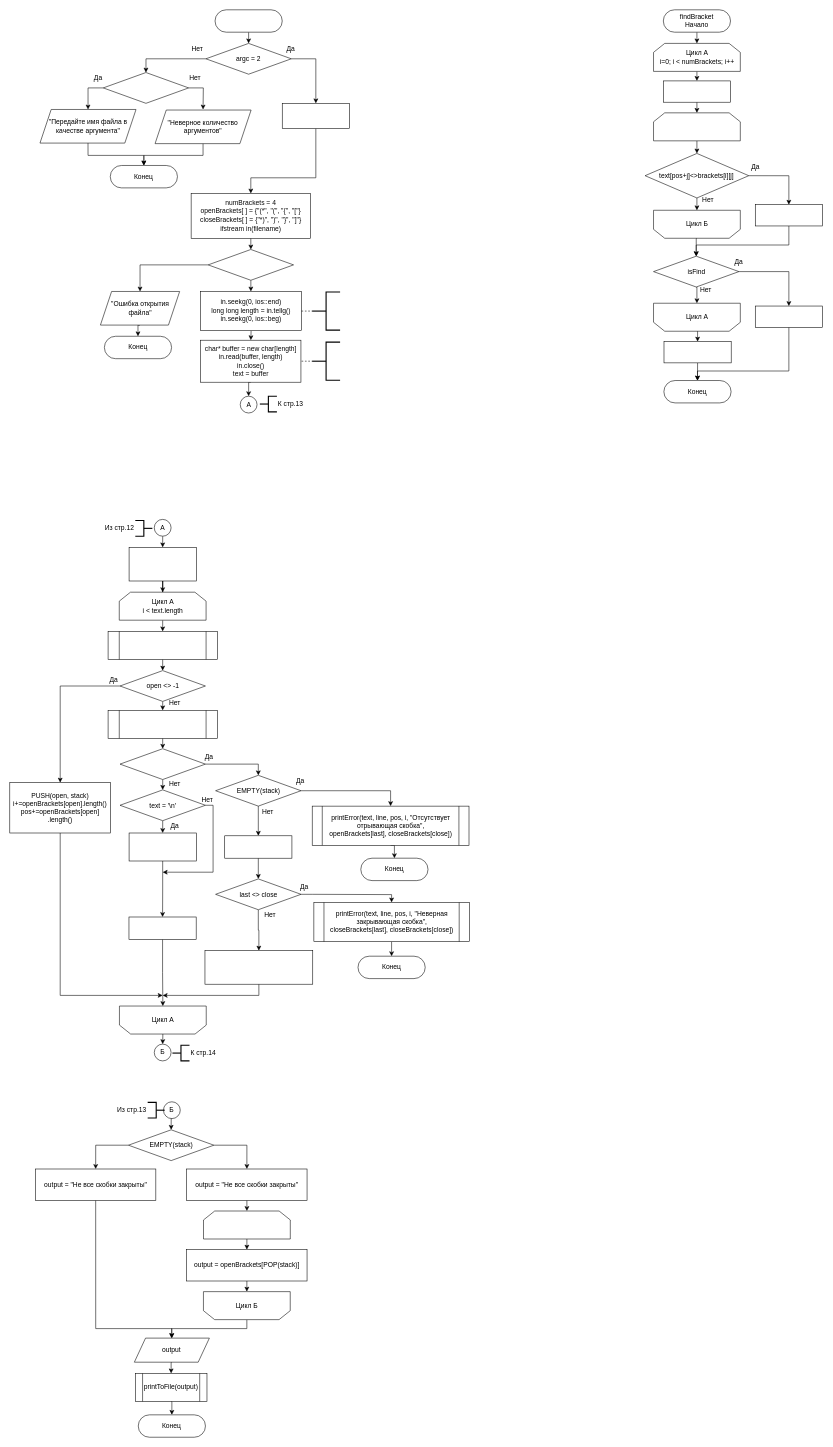
Image size: 833x1447. Some labels were removed from this diagram. Here are the shapes that lost their labels. From the top down, the centre of each, then its label:
the point at 248,20: Начало
the point at 146,87: argc < 2
the point at 697,91: isFind = true
the point at 315,116: filename = argv[1]
the point at 696,126: Цикл Б j=0; j < numBrackets; j++
the point at 788,215: isFind = false
the point at 251,264: in.is_open()
the point at 325,310: Получаем размер файла путем перемещения указателя в конец. Возвращаемся в начало
the point at 788,316: findBracket = i
the point at 325,361: Считываем файл в буфер
the point at 697,352: findBracket = -1
the point at 162,564: stack = Stack() line = 1 pos = 1 i = 0
the point at 162,645: open = findBracket( text , openBrackets , numBrackets , i )
the point at 162,724: open = findBracket( text , close Brackets , numBrackets , i )
the point at 162,764: close <> -1
the point at 162,846: line++ pos = 0
the point at 258,846: last = POP(stack)
the point at 162,927: i++ pos++
the point at 258,967: i+=openBrackets[open].length() pos+=openBrackets[open].length()
the point at 246,1224: Цикл Б not EMPTY(stack)
